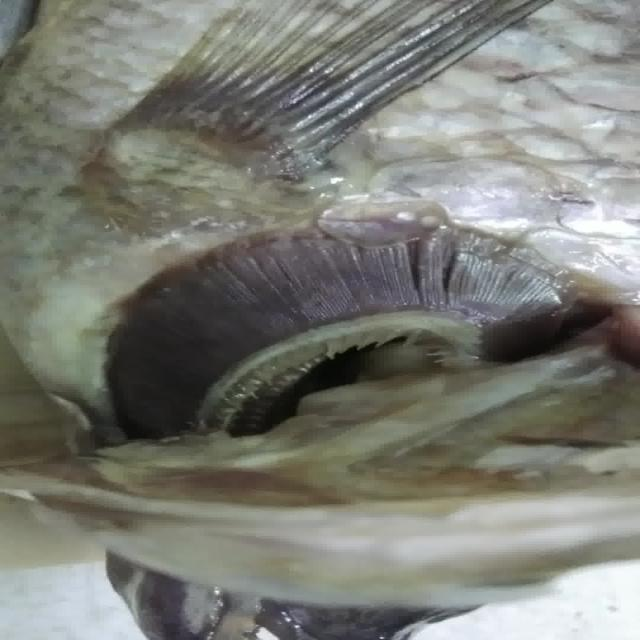Non-Fresh: (71, 221, 605, 456)
